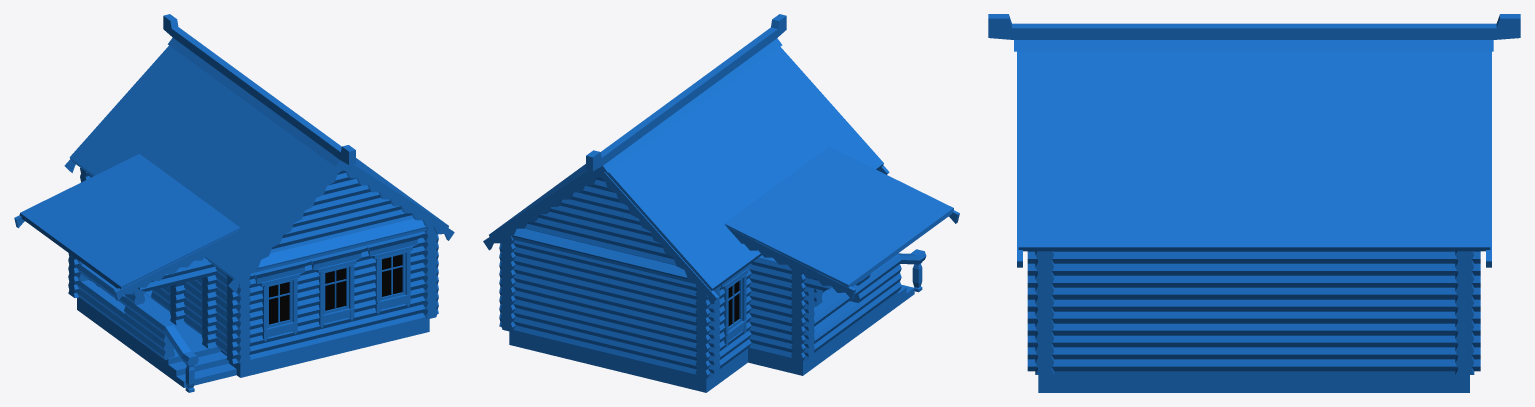
File: SM_house_4.fbx
3 views of the same model, side by side, from view 1: azimuth 30°, elevation 25°; view 2: azimuth 150°, elevation 25°; view 3: azimuth 270°, elevation 25° (orthographic). The views are drawn at different scales.
Visible parts, largest first — view 1: Cube_5; view 2: Cube_5; view 3: Cube_5.
Boxes of the visible parts, <box> form: Cube_5: <box>14,14,454,392</box>; Cube_5: <box>483,14,959,392</box>; Cube_5: <box>988,14,1520,392</box>.
Size of the model in its own units: 838 by 550 by 856.
